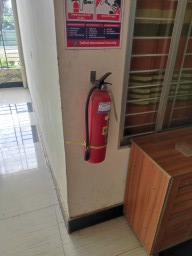fire_extinguisher: (53, 98, 123, 144)
